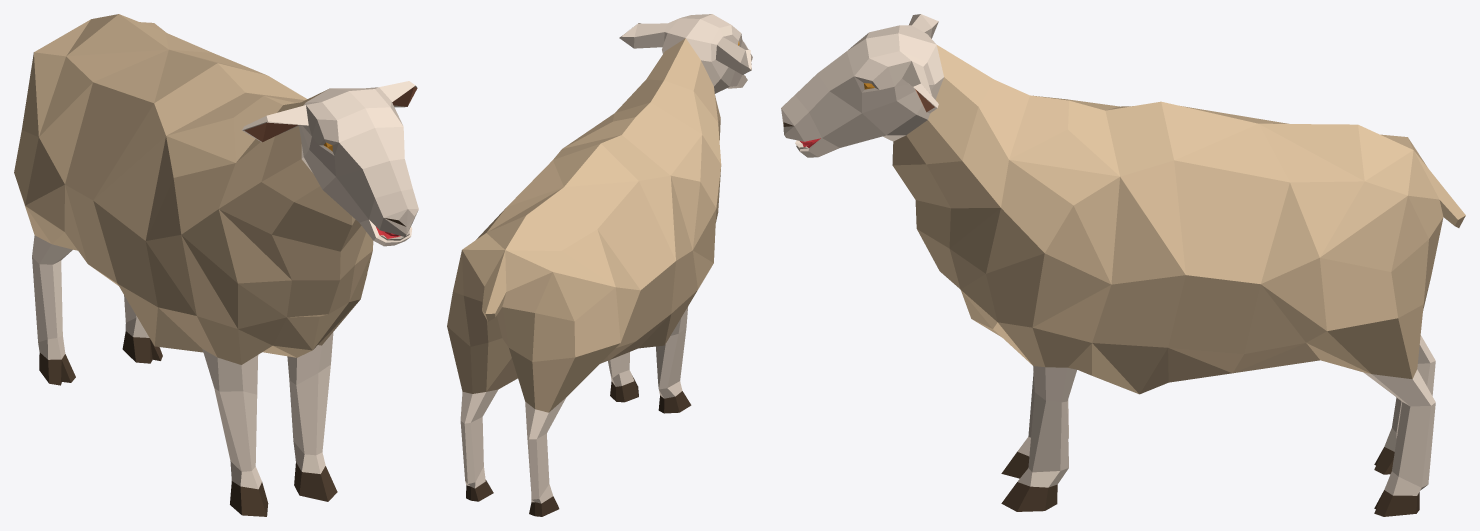
The model's file is sheep-white.glb.
The picture shows the model from 3 angles, left to right: view 1: azimuth 30°, elevation 25°; view 2: azimuth 150°, elevation 25°; view 3: azimuth 270°, elevation 25°; orthographic projection. The views are drawn at different scales.
Parts seen in each view (by area): view 1: sheep-white; view 2: sheep-white; view 3: sheep-white.
Boxes of the visible parts, x1=… form: sheep-white: x1=14, y1=14, x2=418, y2=516; sheep-white: x1=447, y1=14, x2=752, y2=516; sheep-white: x1=781, y1=14, x2=1465, y2=516.
Size of the model in its own units: 0.4475 by 0.8723 by 1.19.
